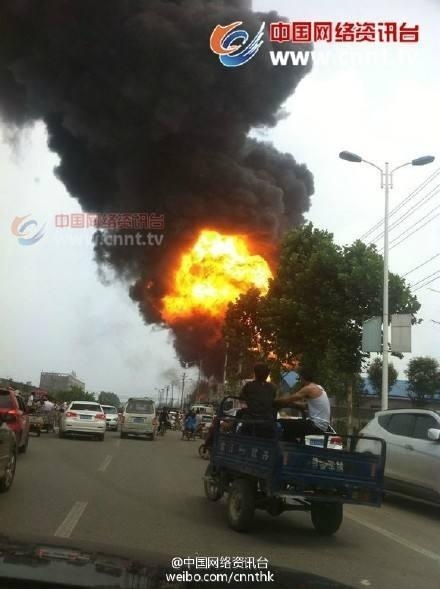fire: (162, 227, 277, 318)
